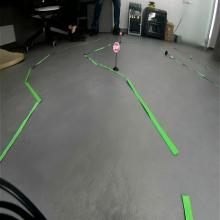stop: (112, 42, 120, 52)
